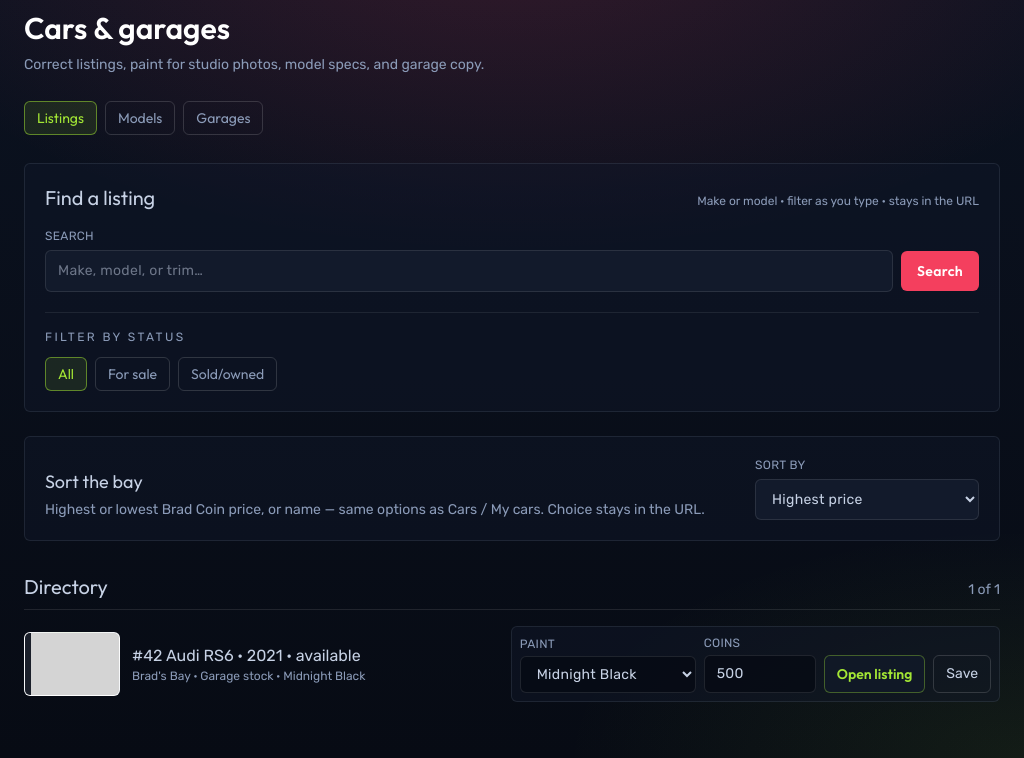
Test: AdminInventoryPage listing paint › shows a studio paint preview and saves a curated colour
(page scrolled)
expect the heading "Cars & garages" is shown: met, box [24,9,230,47]
expect the link with aria-label "Open listing 42" reads "Open listing": met, box [824,655,925,693]
Select "Racing Red" in the dropdown named "Paint colour for listing 42". click: (608, 674)
box: [520,656,696,693]
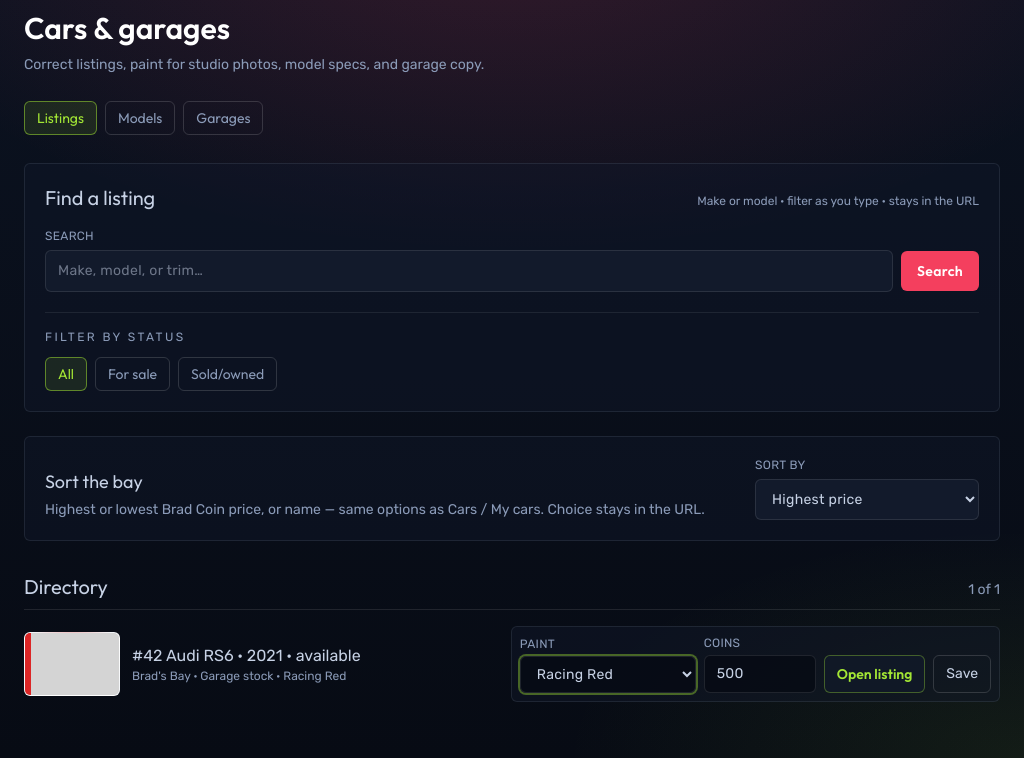
Click the button "Save". click: click(962, 674)
box: [933,655,991,693]
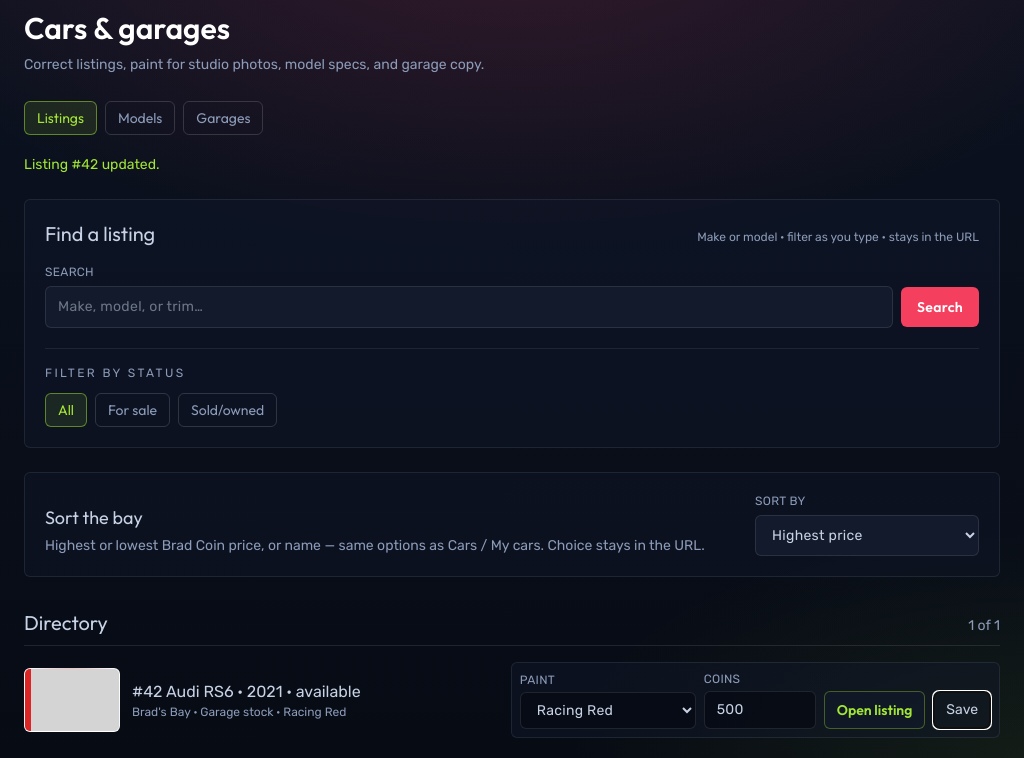
expect the text "Listing #42 updated." is shown: met, box [24,156,160,173]
